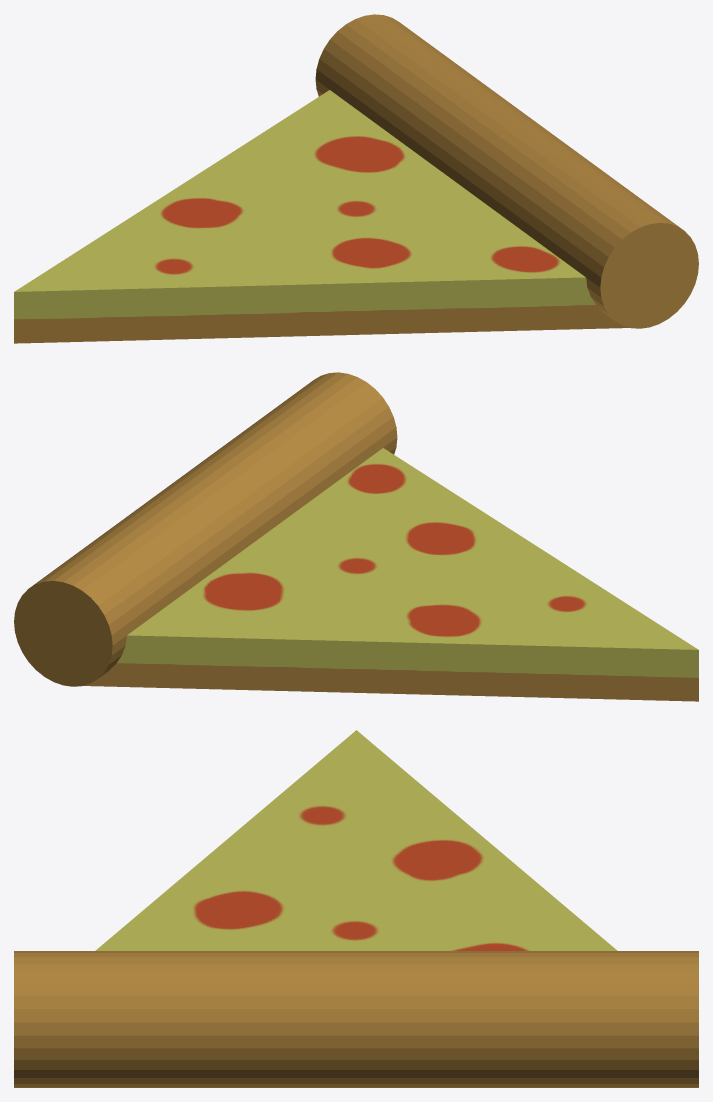
File: Diningroom-pizza.glb
3 renders of one model, top to bottom at view 1: azimuth 30°, elevation 25°; view 2: azimuth 150°, elevation 25°; view 3: azimuth 270°, elevation 25°, orthographic. The views are drawn at different scales.
Parts seen in each view (by area): view 1: Cube; view 2: Cube; view 3: Cube.
Boxes of the visible parts, <box> form: Cube: <box>14,14,698,343</box>; Cube: <box>14,372,698,701</box>; Cube: <box>14,730,698,1087</box>.
Bounding box in the file's own units: 2.2 × 0.4 × 2.
Materials: 1 (1 with a texture image).
